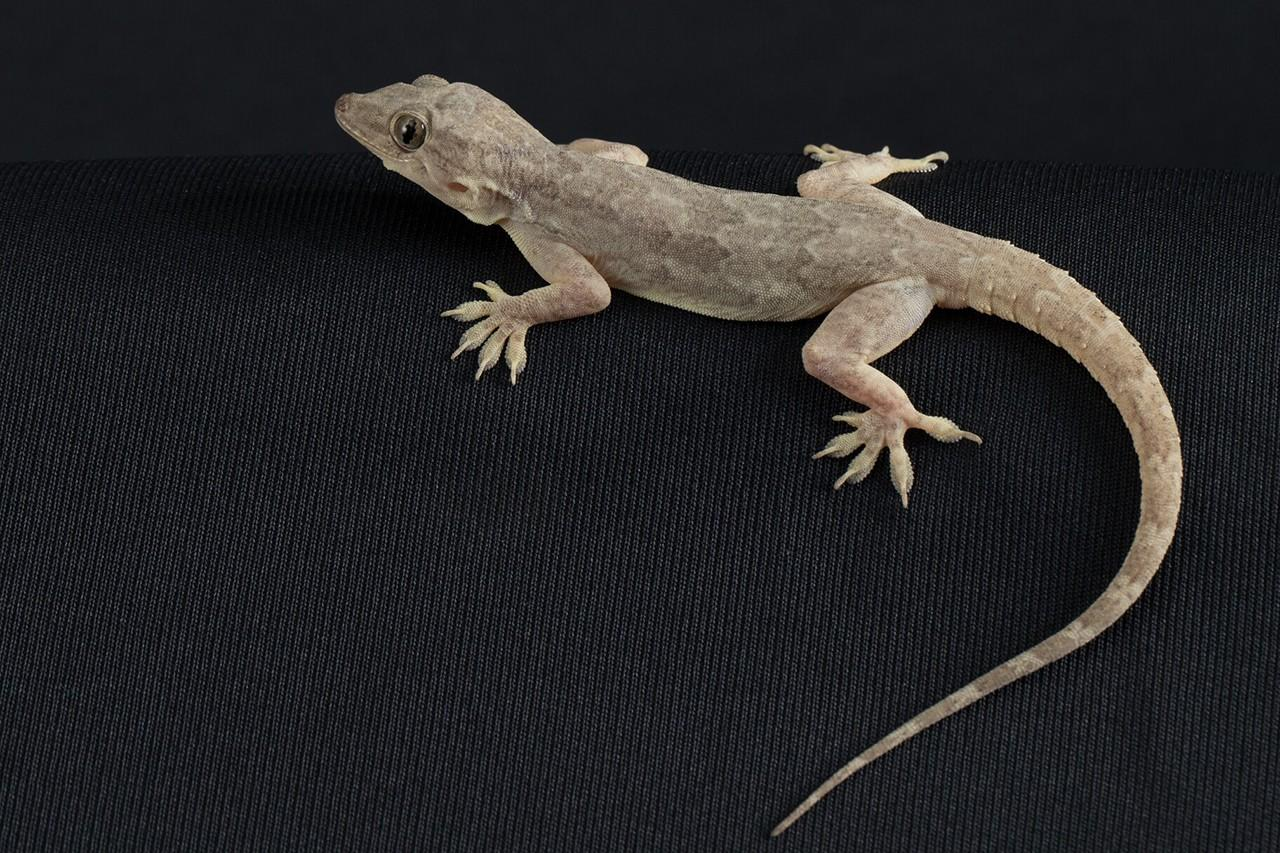lizard: (329, 52, 1191, 833)
